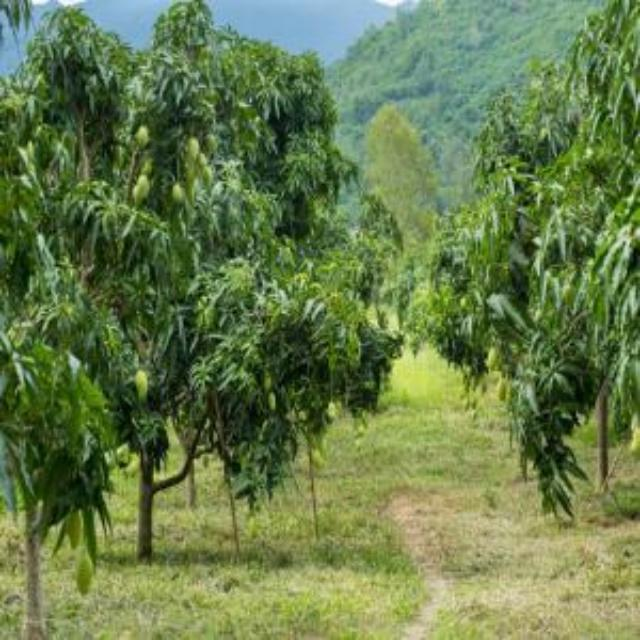tree: (0, 5, 364, 593), (435, 22, 631, 520)
